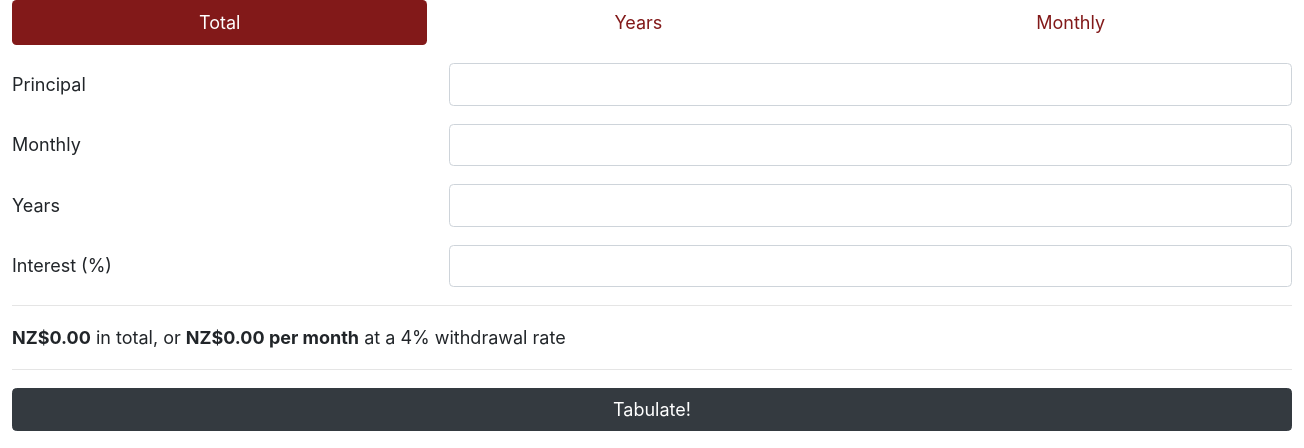
Scenario: components/parts render › mode years
Click the tab "Years". click: coordinates (638, 22)
box: top-left (614, 12), bottom-right (662, 33)
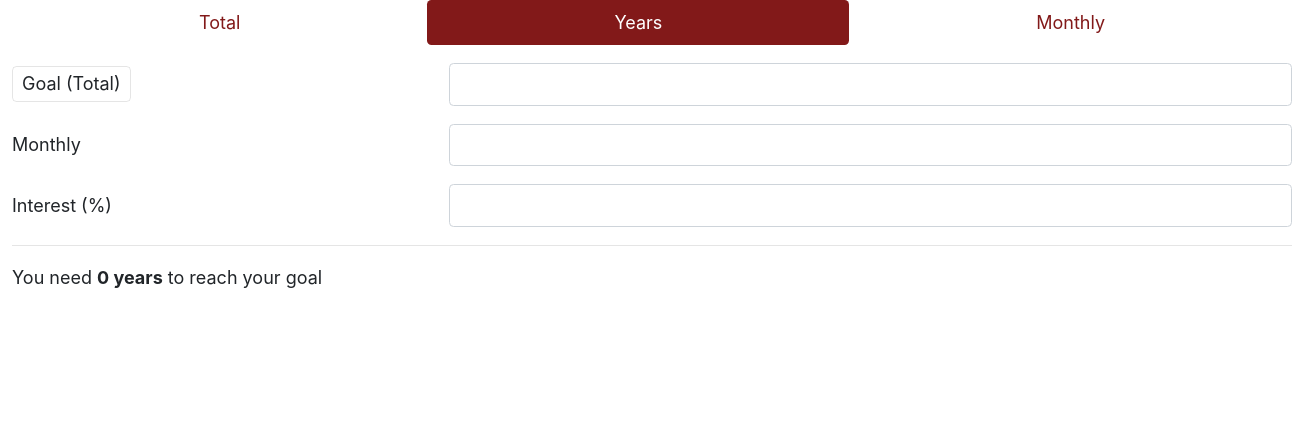
Result: the label labelled "Principal" is gone
Result: the text "You need 0 years to reach your goal" is shown at top-left (12, 266), bottom-right (322, 288)
Result: the text "NZ$0.00 in total, or NZ$0.00 per month at a 4% withdrawal rate" is gone
